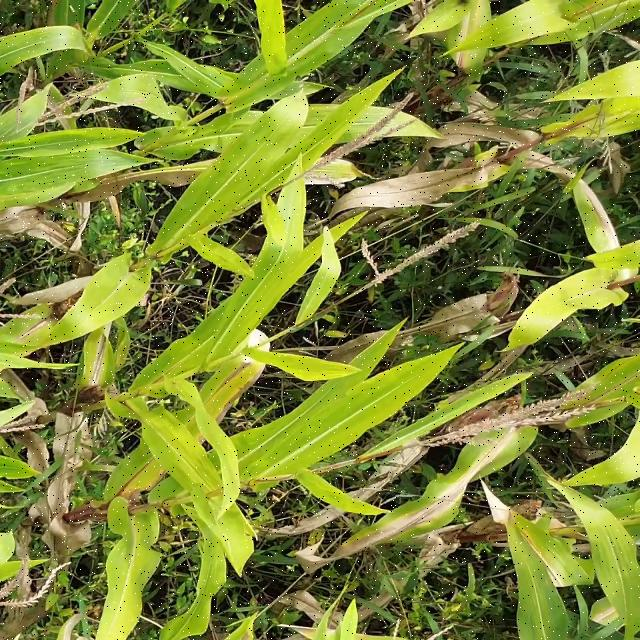northern-leaf-blight: (355, 428, 524, 542)
southern-leaf-blight: (15, 163, 100, 207)
